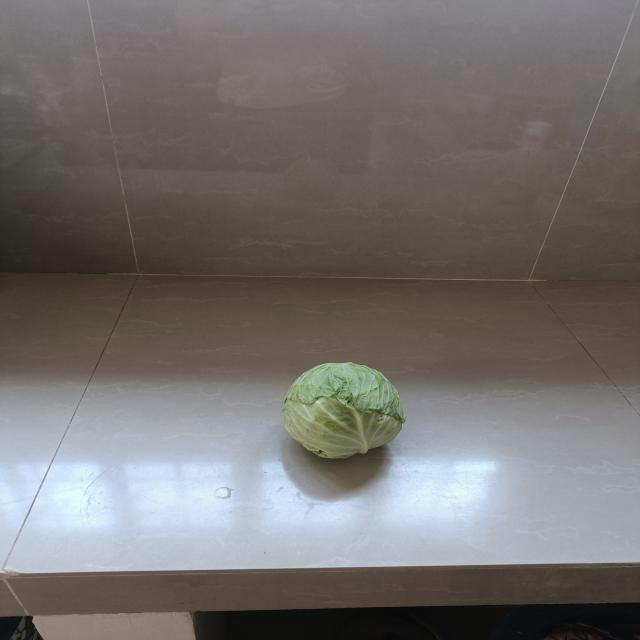cabbage: (279, 360, 410, 460)
